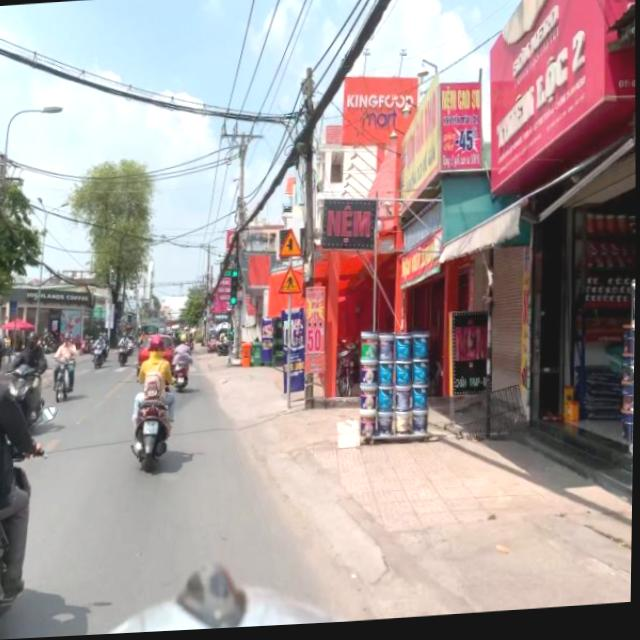Giao nhau voi duong khong uu tien ben trai: (278, 229, 305, 263)
Nguoi di bo cat ngang: (277, 266, 304, 300)
